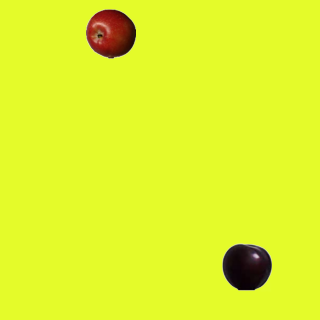Apple Braeburn: (85, 8, 135, 58)
Cherry Wax Black: (221, 241, 271, 291)
